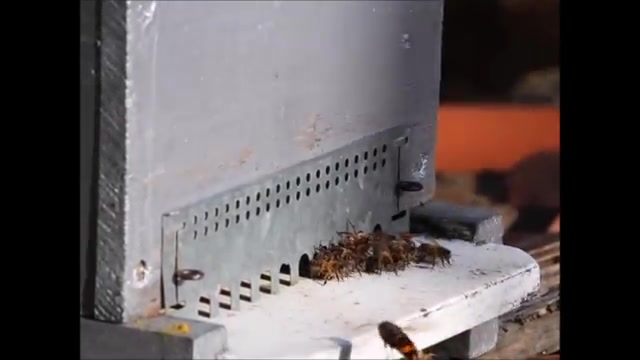bee: (356, 232, 398, 275), (399, 239, 455, 264), (319, 247, 354, 280)
hornet: (369, 320, 425, 360)
